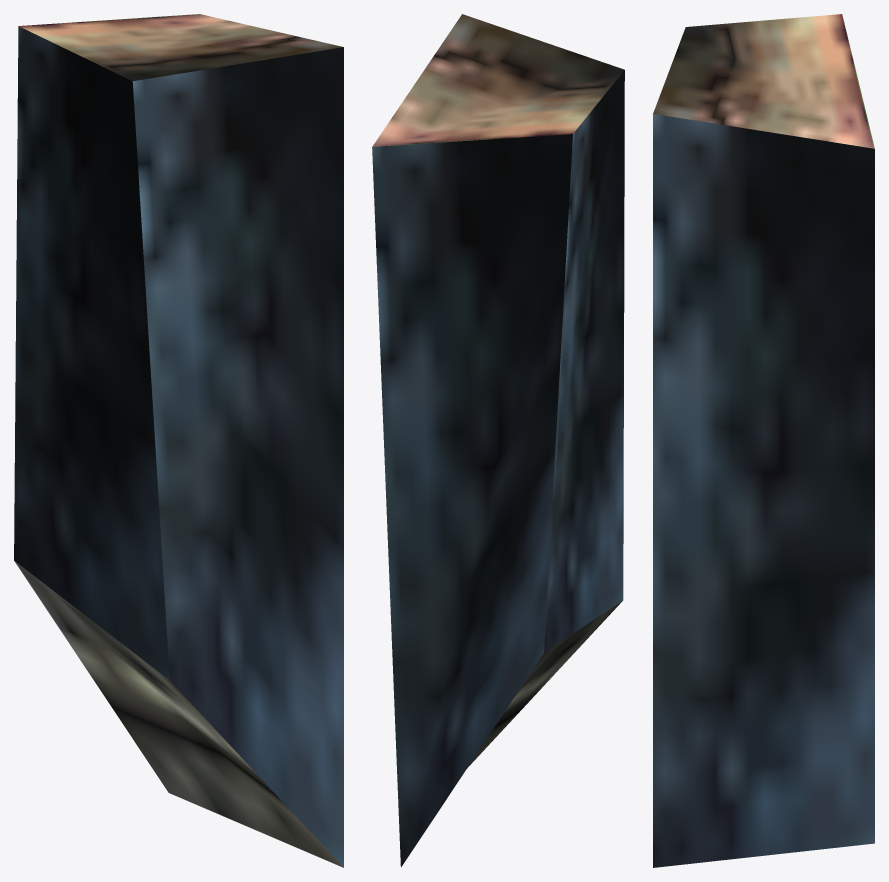
Rendered from USA - Base Infrastructure - Power Plant - Damage State 12 - ABPWRPLANT_d12.glb.
3 views of the same model, side by side, from view 1: azimuth 30°, elevation 25°; view 2: azimuth 150°, elevation 25°; view 3: azimuth 270°, elevation 25° (orthographic). The views are drawn at different scales.
Parts seen in each view (by area): view 1: ABPWRPLANT_D12; view 2: ABPWRPLANT_D12; view 3: ABPWRPLANT_D12.
Boxes of the visible parts, x1,y1,x2,y2 form: ABPWRPLANT_D12: (14, 14, 343, 867); ABPWRPLANT_D12: (372, 14, 624, 867); ABPWRPLANT_D12: (653, 14, 874, 867).
Size of the model in its own units: 1.47 by 5.18 by 1.38.
1 material, 1 textured.
